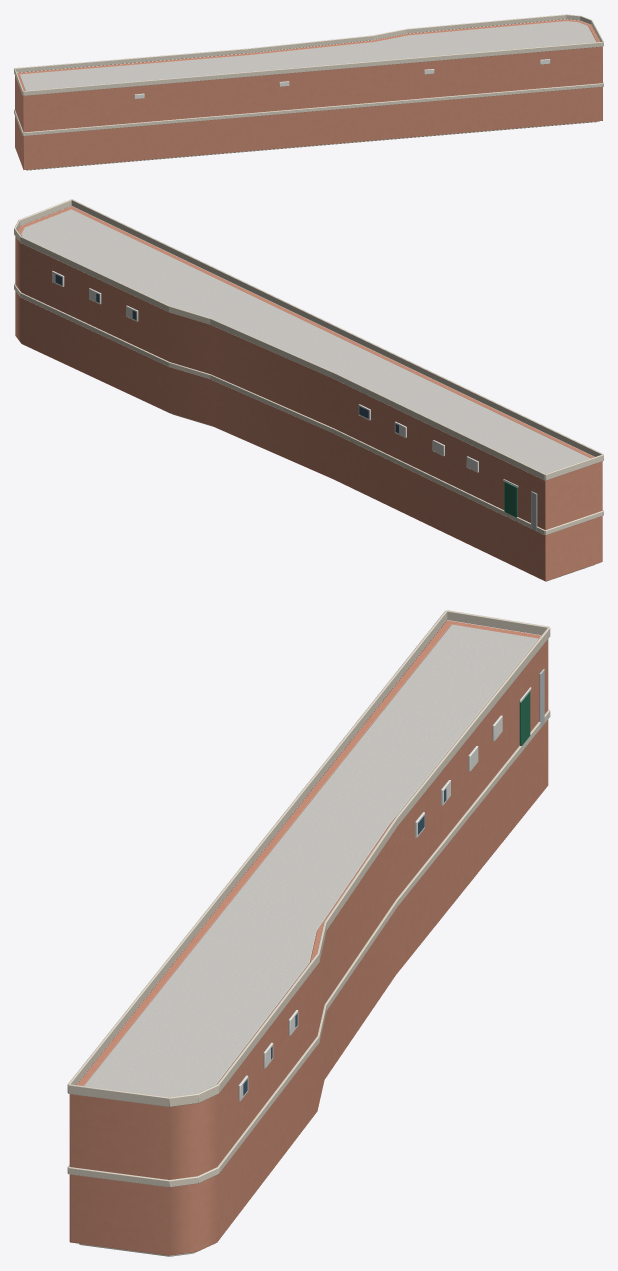
File: Chambre_des_pompes.glb
3 views of the same model, one above another, from view 1: azimuth 30°, elevation 25°; view 2: azimuth 150°, elevation 25°; view 3: azimuth 270°, elevation 25° (orthographic). The views are drawn at different scales.
Parts seen in each view (by area): view 1: CP_mur, CP_Toit, CP_band, CP_sol, CP_cadre; view 2: CP_mur, CP_Toit, CP_band, CP_cadre; view 3: CP_mur, CP_Toit, CP_band, CP_cadre.
Boxes of the visible parts, x1,y1,x2,y2 form: CP_mur: (15,19,602,169); CP_Toit: (19,21,596,90); CP_band: (14,14,603,135); CP_sol: (26,121,598,170); CP_cadre: (134,59,550,98); CP_mur: (15,206,602,581); CP_Toit: (21,209,590,473); CP_band: (14,199,603,535); CP_cadre: (52,271,518,487); CP_mur: (69,620,548,1255); CP_Toit: (84,624,538,1097); CP_band: (67,610,550,1187); CP_cadre: (238,687,531,1101).
Bounding box in the file's own units: 45.56 × 7.1 × 19.05.
Materials: 16 (16 with a texture image).
